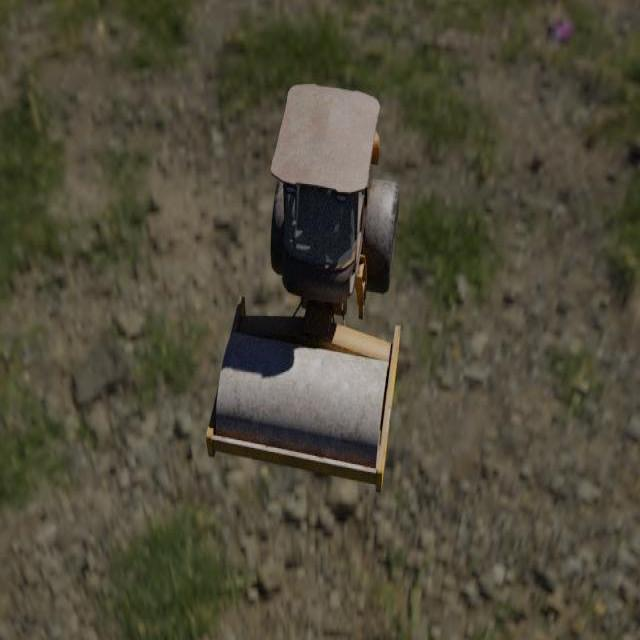Roller: (205, 83, 400, 493)
